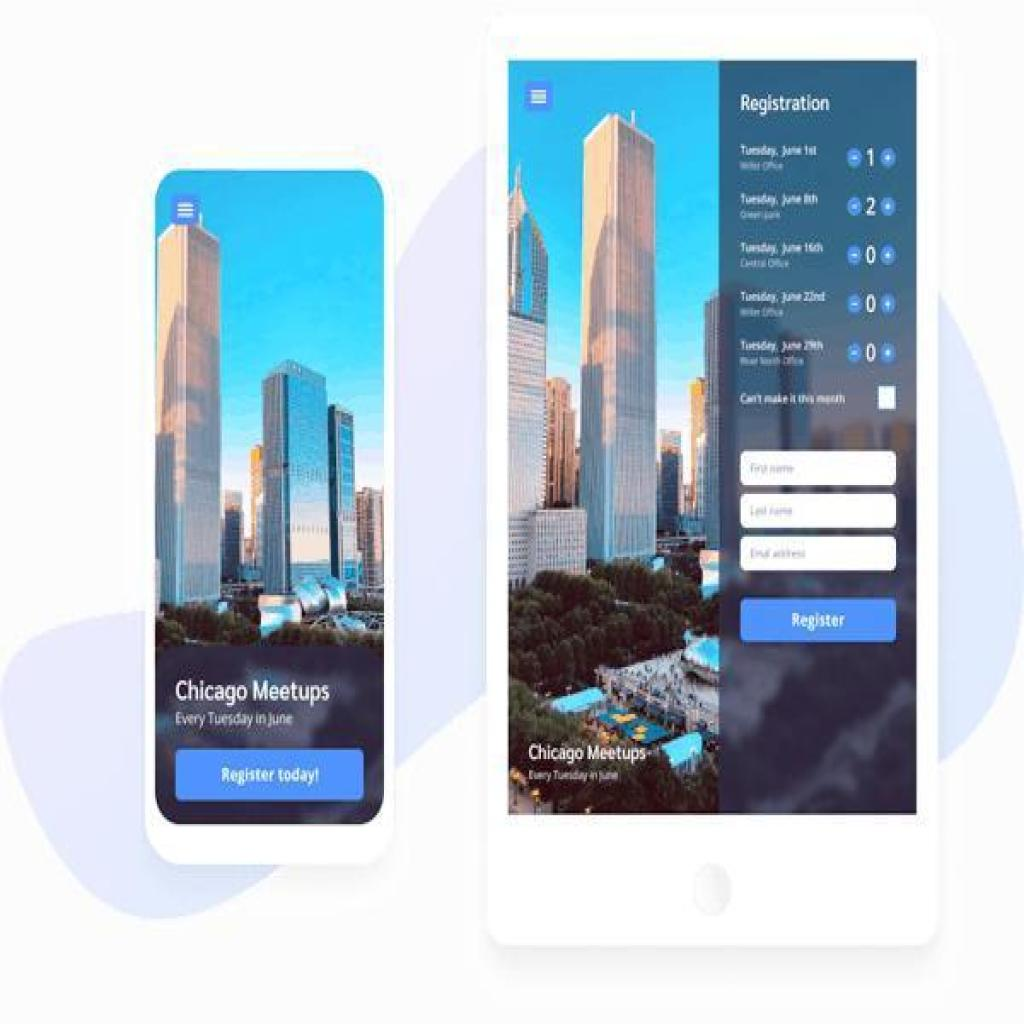button: (174, 752, 364, 797), (739, 595, 899, 647)
checkbox: (876, 382, 900, 413)
icon: (172, 198, 198, 220), (529, 83, 548, 108)
input: (739, 492, 898, 530), (740, 534, 898, 570), (741, 452, 896, 488)
label: (739, 92, 835, 115), (741, 390, 850, 408)
